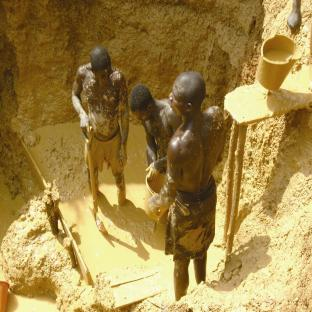Person: (164, 72, 229, 292), (76, 35, 130, 218), (127, 82, 176, 224)
